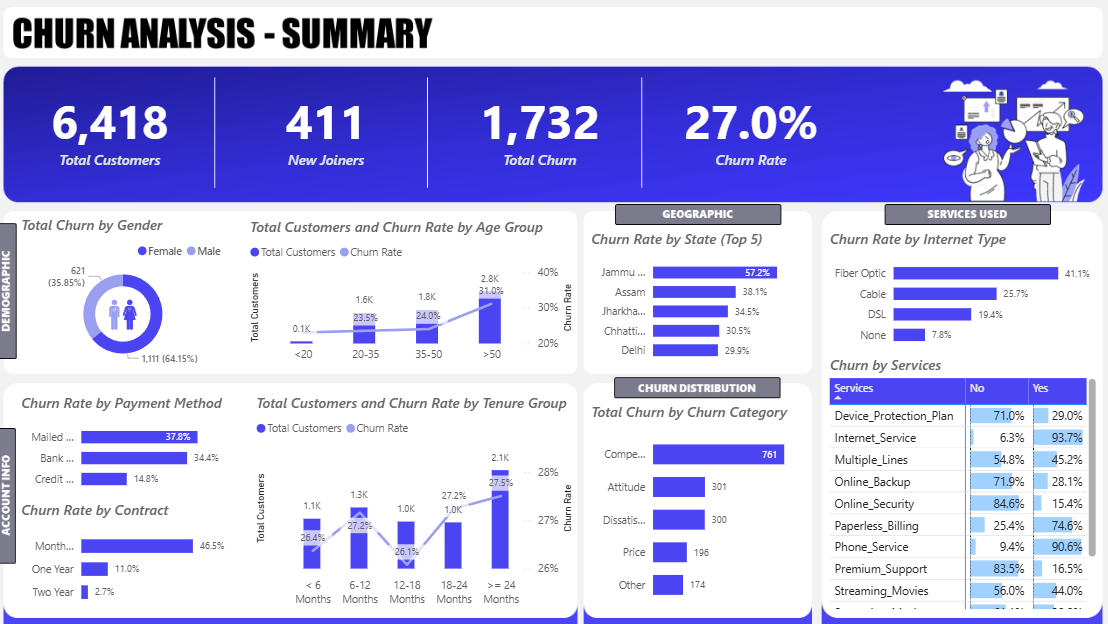

The dashboard page shown, as its layout file describes it:
{"tool":"powerbi","page":{"name":"Summary","canvas":[1280,720],"ordinal":0},"visuals":[{"type":"image","box":[126.2,334.8,45.3,49.4],"z":0},{"type":"card","fields":{"Values":["_Measure.Total Customers"]},"box":[48,90.6,170.2,115.3],"z":1000},{"type":"card","fields":{"Values":["_Measure.Total Churn"]},"box":[540.7,90.6,170.2,115.3],"z":2000},{"type":"card","fields":{"Values":["_Measure.New Joiners"]},"box":[295,90.6,170.2,115.3],"z":3000},{"type":"card","fields":{"Values":["_Measure.Churn Rate"]},"box":[780.8,90.6,170,115],"z":4000},{"type":"donutChart","fields":{"Category":["prod_Churn.Gender"],"Y":["_Measure.Total Churn"]},"box":[27.4,245.6,242.9,177],"z":5000},{"type":"lineStackedColumnComboChart","fields":{"Category":["mapping_AgeGroup.Age Group"],"Y":["_Measure.Total Customers"],"Y2":["_Measure.Churn Rate"]},"box":[288.2,247,380.1,175.6],"z":6000},{"type":"clusteredBarChart","title":"Churn Rate by Payment Method","fields":{"Category":["prod_Churn.Payment_Method"],"Y":["_Measure.Churn Rate"]},"box":[27.4,448.7,242.9,122.1],"z":7000},{"type":"clusteredBarChart","fields":{"Category":["prod_Churn.Contract"],"Y":["_Measure.Churn Rate"]},"box":[27.4,570.8,242.9,130.4],"z":8000},{"type":"lineStackedColumnComboChart","fields":{"Category":["mapping_TenureGroup.Tenure Group"],"Y":["_Measure.Total Customers"],"Y2":["_Measure.Churn Rate"]},"box":[295,448.7,373.2,252.5],"z":9000},{"type":"clusteredBarChart","title":"Churn Rate by State (Top 5)","fields":{"Category":["prod_Churn.State"],"Y":["_Measure.Churn Rate"]},"box":[677.9,262.1,253.9,160.5],"z":10000},{"type":"clusteredBarChart","title":"Total Churn by Churn Category","fields":{"Y":["_Measure.Total Churn"],"Category":["prod_Churn.Churn_Category"]},"box":[677.9,458.3,253.9,242.9],"z":11000},{"type":"clusteredBarChart","title":"Churn Rate by Internet Type","fields":{"Category":["prod_Churn.Internet_Type"],"Y":["_Measure.Churn Rate"]},"box":[950.9,262.1,314.2,144.1],"z":12000},{"type":"pivotTable","title":"Churn by Services","fields":{"Rows":["prod_Services.Services"],"Columns":["prod_Services.Status"],"Values":["Sum(prod_Services.Churn Status)"]},"box":[950.9,406.2,314.2,295],"z":13000}]}

Visuals, with their boxes in screenshot pixels (x1, y1, x2, y2), scaled from the page's 1280x720 canvas onto the 1108x624 screenshot:
image: <bbox>109, 290, 148, 333</bbox>
card - _Measure.Total Customers: <bbox>42, 79, 189, 178</bbox>
card - _Measure.Total Churn: <bbox>468, 79, 615, 178</bbox>
card - _Measure.New Joiners: <bbox>255, 79, 403, 178</bbox>
card - _Measure.Churn Rate: <bbox>676, 79, 823, 178</bbox>
donutChart - prod_Churn.Gender x _Measure.Total Churn: <bbox>24, 213, 234, 366</bbox>
lineStackedColumnComboChart - mapping_AgeGroup.Age Group x _Measure.Total Customers: <bbox>249, 214, 578, 366</bbox>
"Churn Rate by Payment Method" clusteredBarChart: <bbox>24, 389, 234, 495</bbox>
clusteredBarChart - prod_Churn.Contract x _Measure.Churn Rate: <bbox>24, 495, 234, 608</bbox>
lineStackedColumnComboChart - mapping_TenureGroup.Tenure Group x _Measure.Total Customers: <bbox>255, 389, 578, 608</bbox>
"Churn Rate by State (Top 5)" clusteredBarChart: <bbox>587, 227, 807, 366</bbox>
"Total Churn by Churn Category" clusteredBarChart: <bbox>587, 397, 807, 608</bbox>
"Churn Rate by Internet Type" clusteredBarChart: <bbox>823, 227, 1095, 352</bbox>
"Churn by Services" pivotTable: <bbox>823, 352, 1095, 608</bbox>
